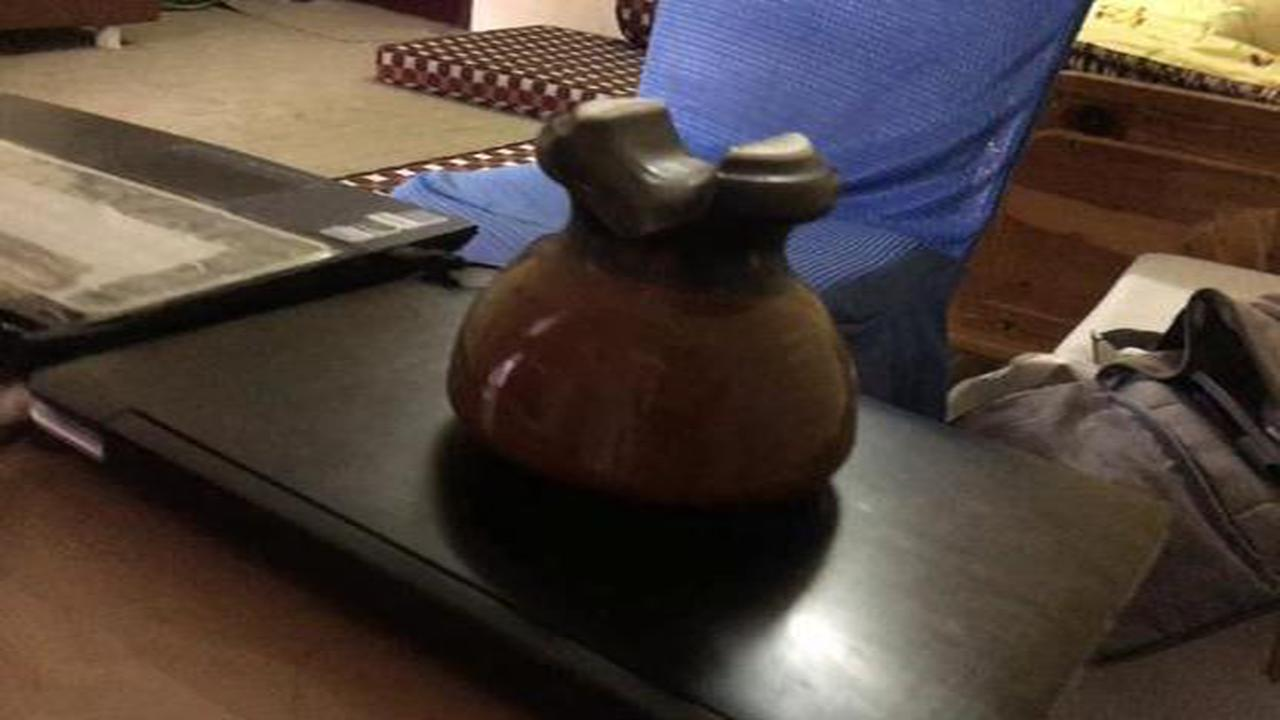insulator_pin: (422, 85, 874, 539)
